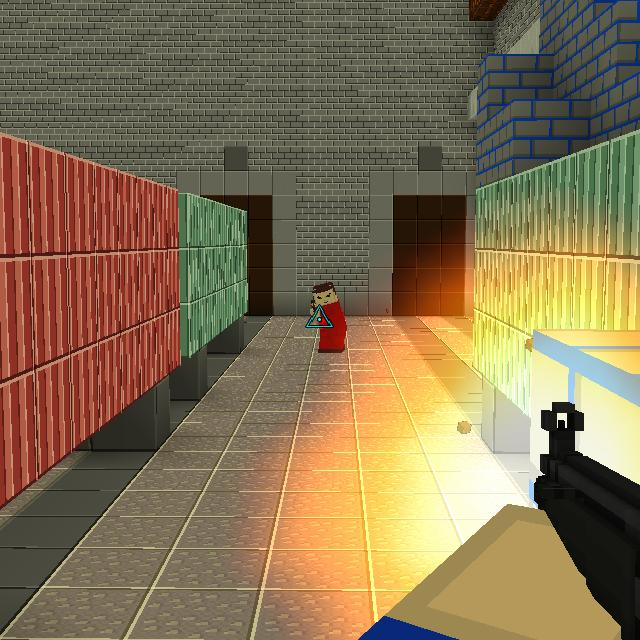enemy: (307, 281, 348, 354)
